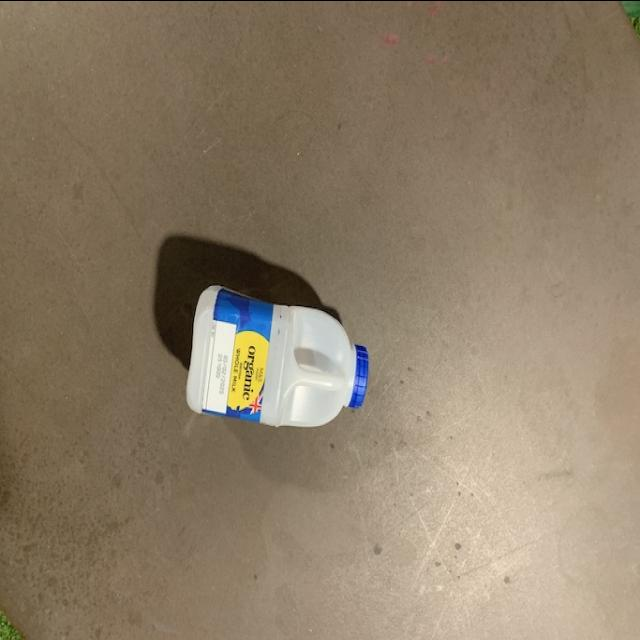HDPEM: (185, 284, 374, 428)
